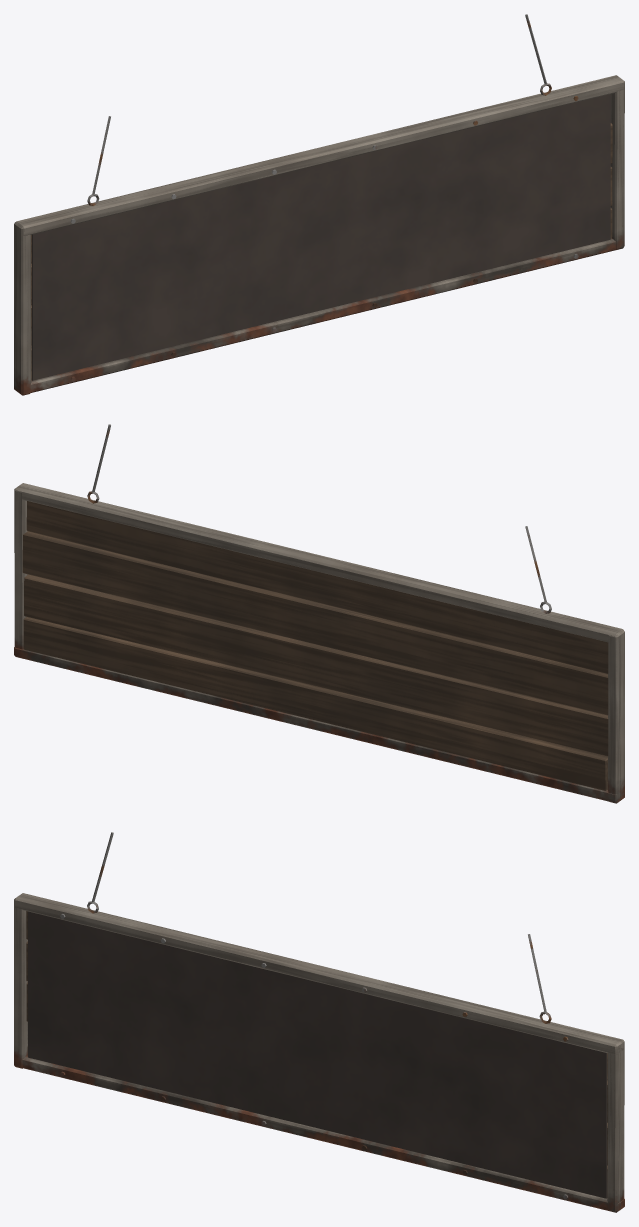
Rendered from WelcomeSign.fbx.
3 views of the same model, one above another, from view 1: azimuth 30°, elevation 25°; view 2: azimuth 150°, elevation 25°; view 3: azimuth 330°, elevation 25° (orthographic).
Parts seen in each view (by area): view 1: WelcomeSign; view 2: WelcomeSign; view 3: WelcomeSign.
Part boxes in pixels (bbox=[...]): WelcomeSign: bbox=[14, 14, 624, 395]; WelcomeSign: bbox=[14, 424, 624, 803]; WelcomeSign: bbox=[14, 832, 624, 1212].
Bounding box in the file's own units: 336 × 135 × 9.81.
Materials: 2 (2 with a texture image).
